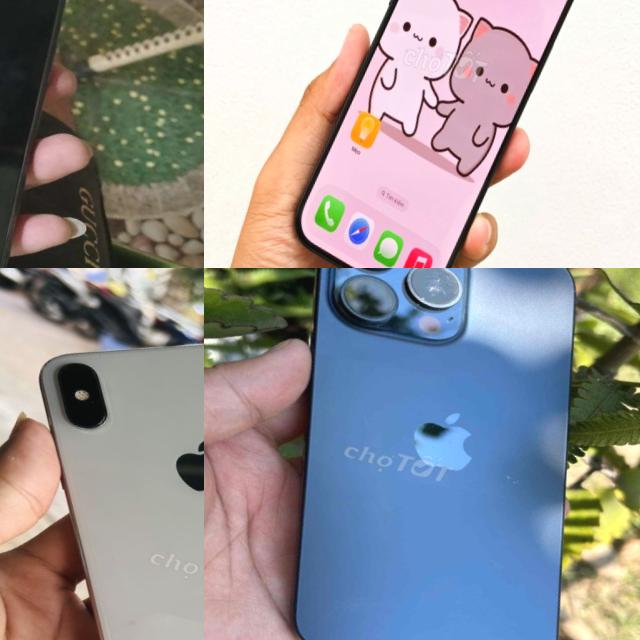gen_11: (0, 0, 96, 268)
gen_15: (204, 268, 640, 640), (270, 0, 630, 268)
gen_x_xs: (39, 344, 204, 640)
scratch: (403, 268, 476, 321), (492, 462, 548, 506)
